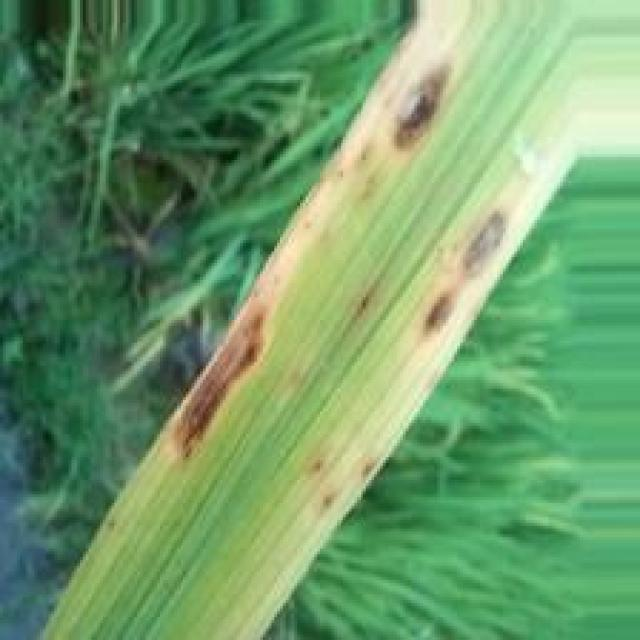Leaf_Blast: (159, 281, 278, 469), (383, 51, 465, 157), (460, 200, 515, 281), (416, 285, 463, 340)
